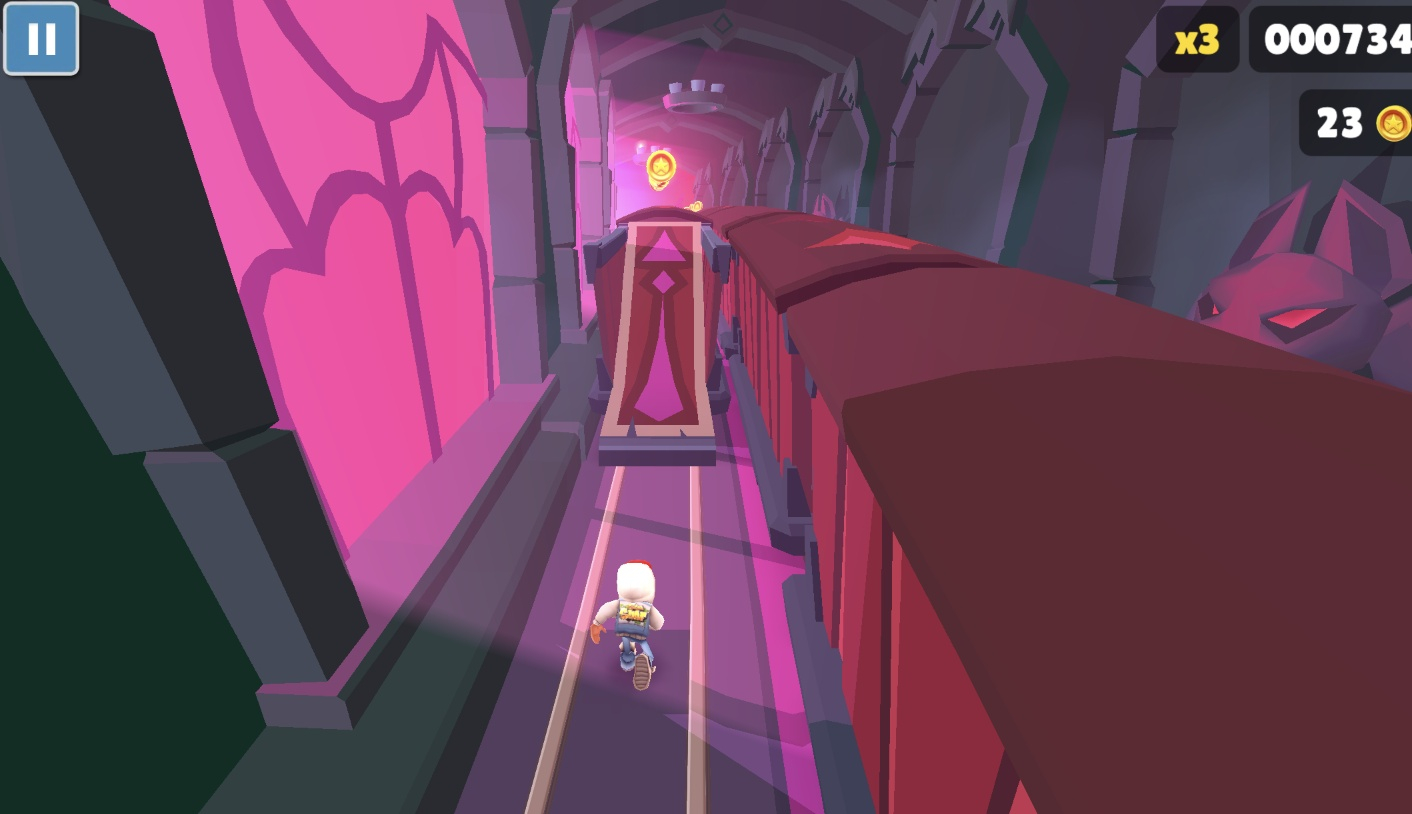train: (692, 209, 1412, 814), (581, 206, 733, 467)
